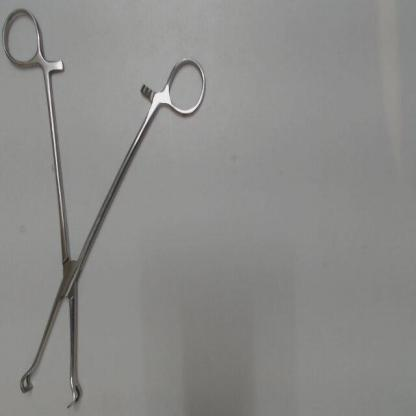8 Babcock Tissue Forceps: (0, 4, 211, 414)
